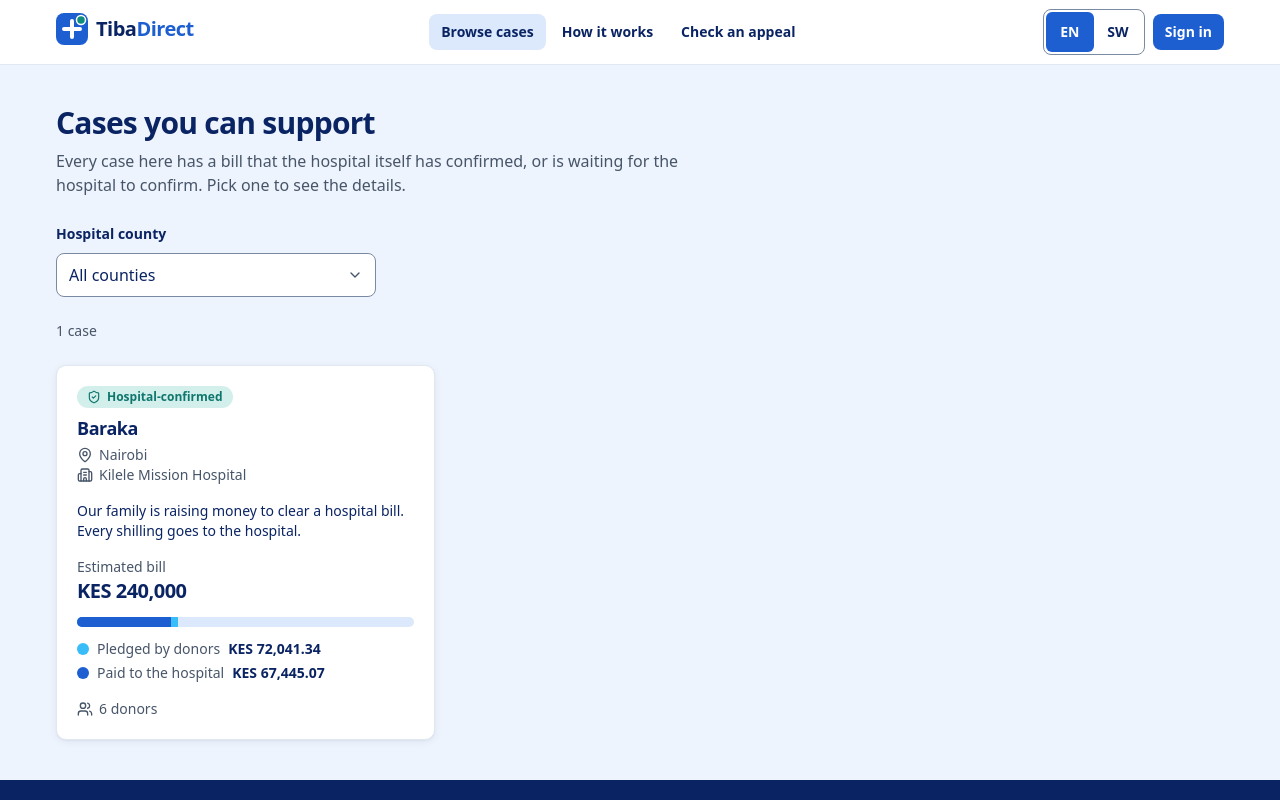
Scenario: browse page › filters by county using the counties of the active hospitals, once each
What coordinates should you click on to do the following:
click the dropdown named "Hospital county"
I would click on:
 (112, 275)
Its box is x1=56 y1=253 x2=376 y2=297.
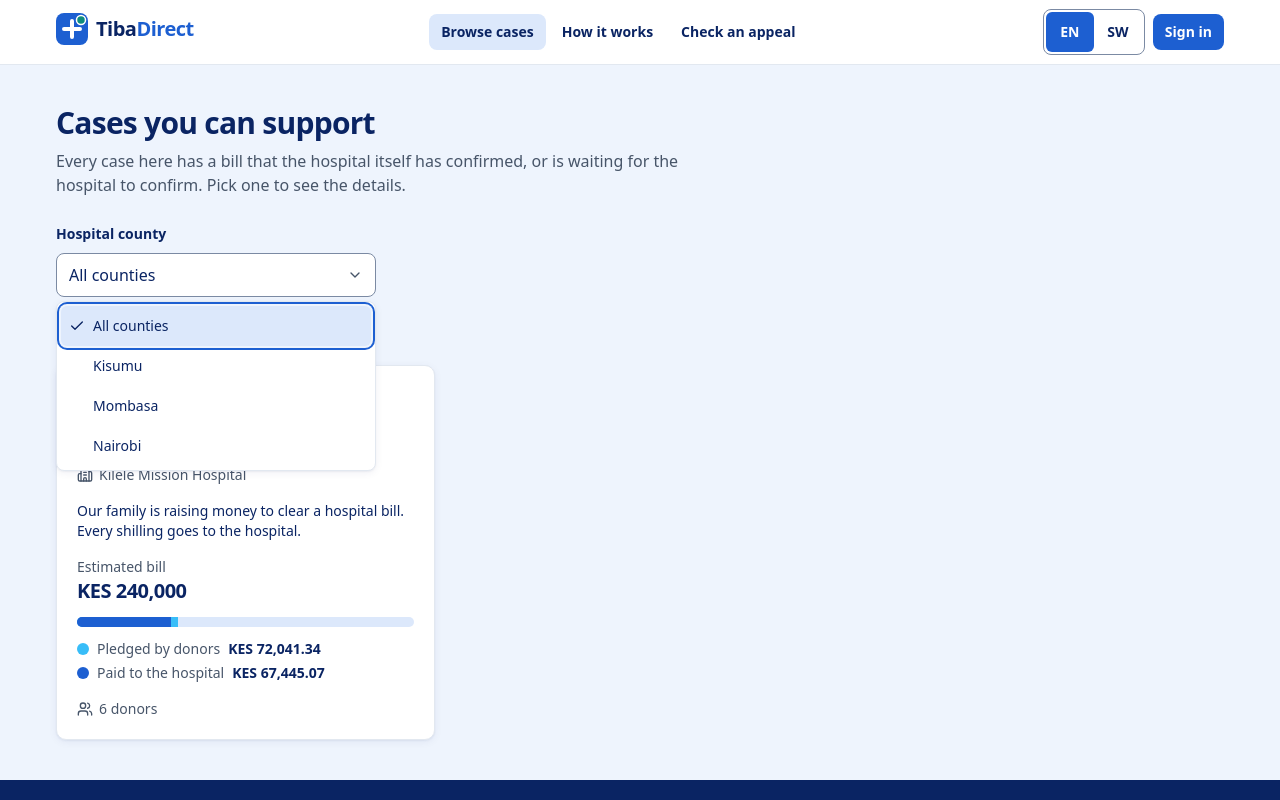
Expected: the options read "All counties", "Kisumu", "Mombasa", "Nairobi", in this order
What coordinates should you click on to do the following:
click the option "Mombasa"
I would click on:
 (126, 406)
Its box is x1=93 y1=396 x2=158 y2=415.
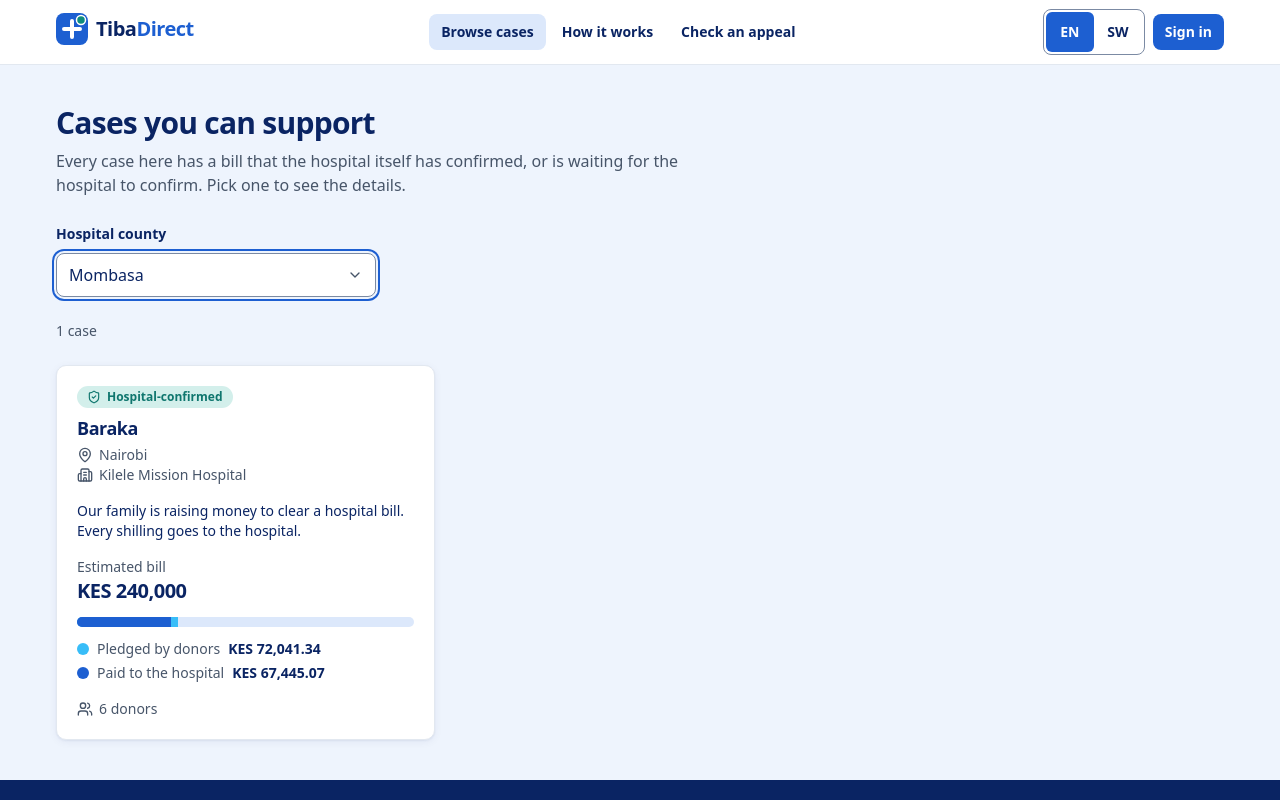
Expected: the dropdown named "Hospital county" reads "Mombasa", x1=56 y1=253 x2=376 y2=297
